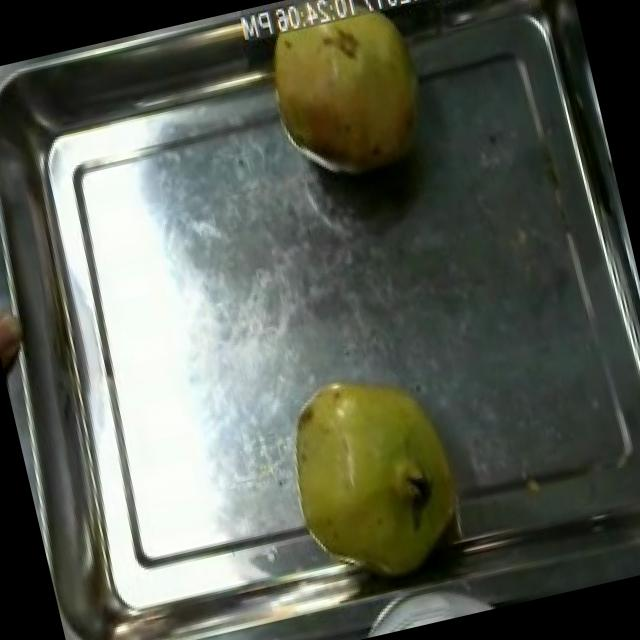fruit: (256, 336, 495, 606), (247, 0, 447, 197), (0, 283, 37, 389)
